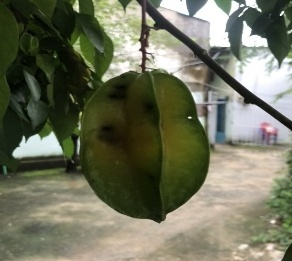Khe: (78, 71, 211, 225)
